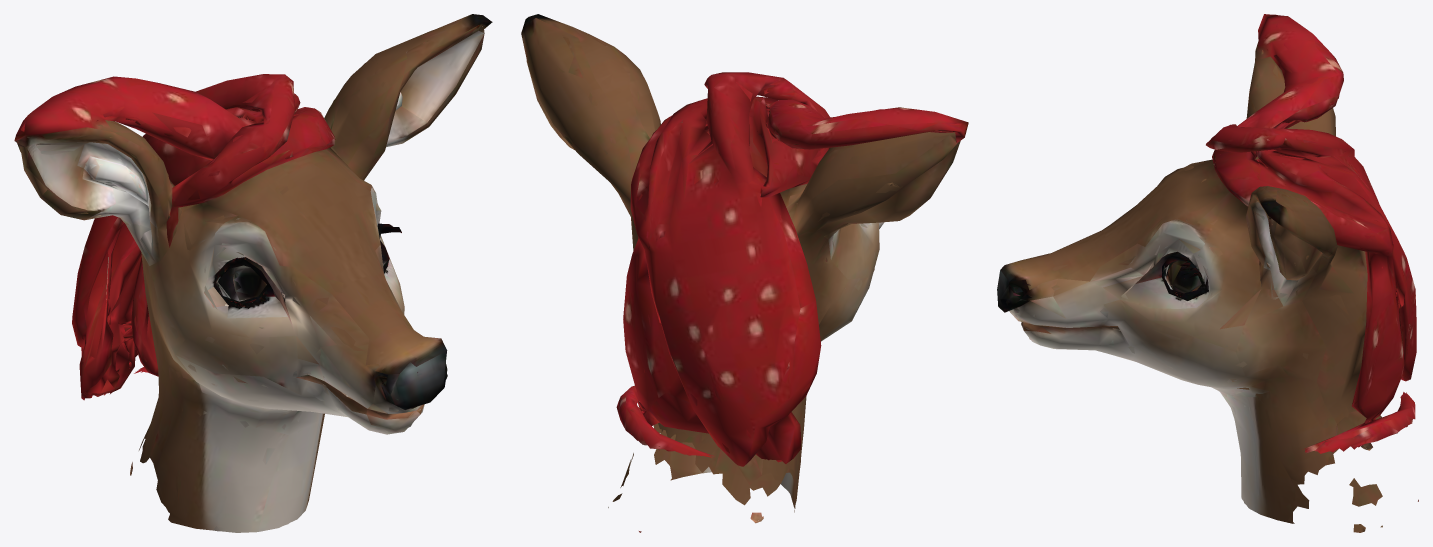
Rendered from hazel-head.glb.
3 renders of one model, left to right at view 1: azimuth 30°, elevation 25°; view 2: azimuth 150°, elevation 25°; view 3: azimuth 270°, elevation 25°, orthographic. The views are drawn at different scales.
Visible parts, largest first — view 1: hazelHead; view 2: hazelHead; view 3: hazelHead.
Boxes of the visible parts, x1,y1,x2,y2 form: hazelHead: (14, 14, 492, 532); hazelHead: (521, 14, 968, 532); hazelHead: (997, 14, 1418, 532).
Bounding box in the file's own units: 0.6511 × 0.5926 × 0.5802.
1 material, 1 textured.
